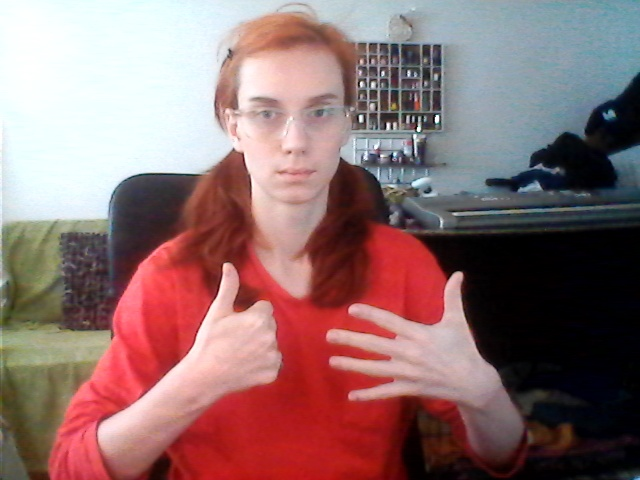sest: (186, 260, 477, 410)
